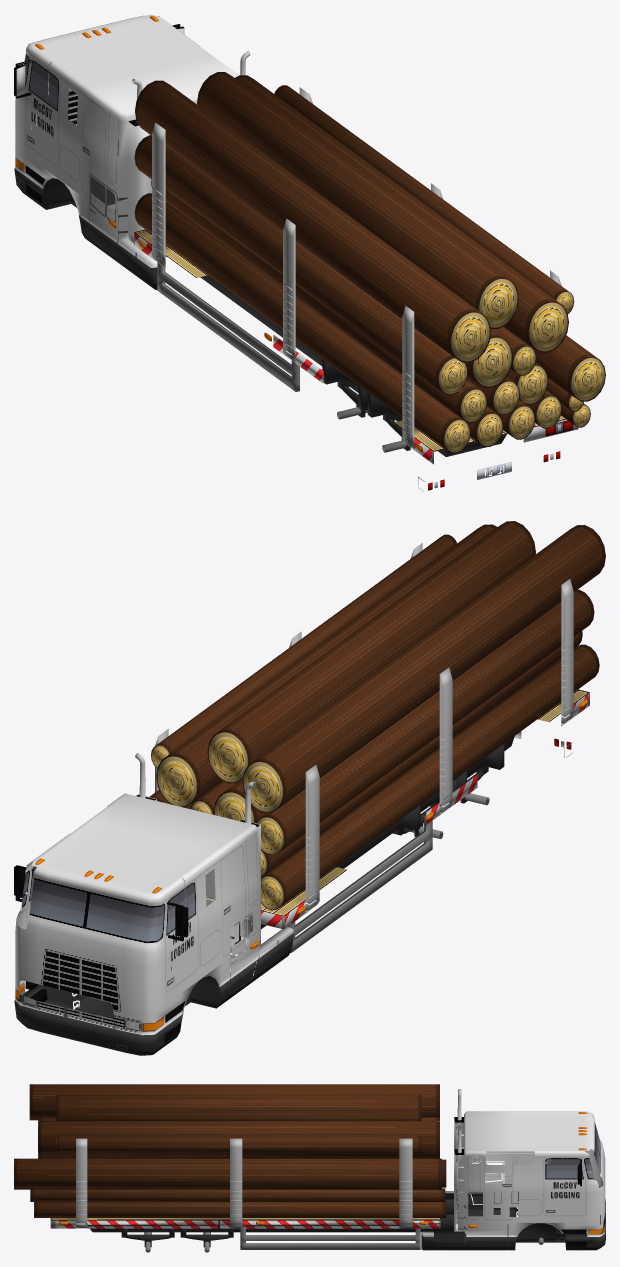
Rendered from 88navistarlogging1.fbx.
The picture shows the model from 3 angles, top to bottom: view 1: azimuth 30°, elevation 25°; view 2: azimuth 150°, elevation 25°; view 3: azimuth 270°, elevation 25°; orthographic projection. The views are drawn at different scales.
Visible parts, largest first — view 1: navistar1logging; view 2: navistar1logging; view 3: navistar1logging.
Part boxes in pixels (x1,y1,x2,y2): navistar1logging: (14, 14, 605, 491); navistar1logging: (14, 521, 605, 1055); navistar1logging: (14, 1084, 605, 1252).
Bounding box in the file's own units: 2.89 × 3.54 × 13.44.
